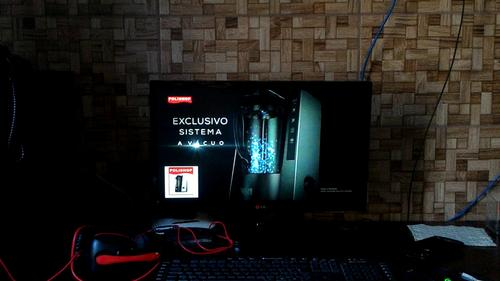Polishop #1: (163, 166, 199, 198)
